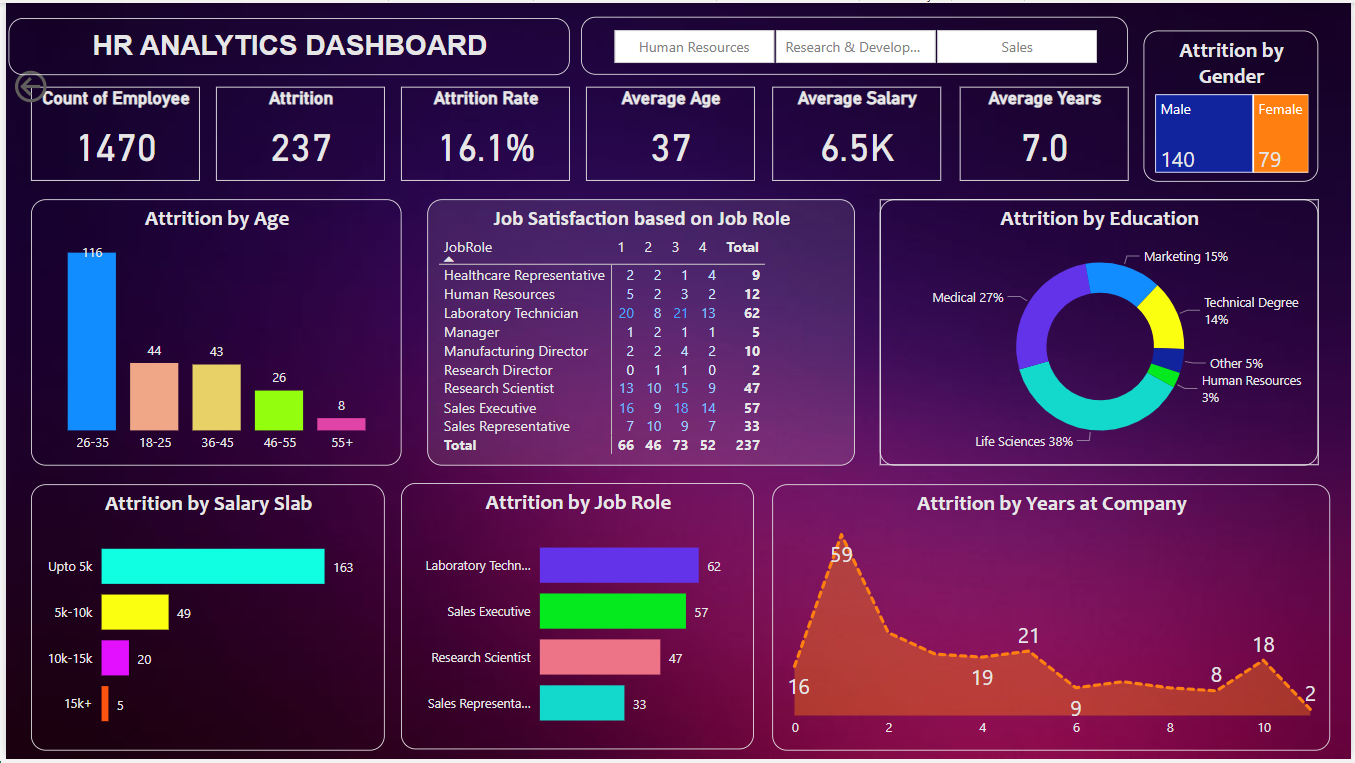

The page's visual inventory and layout, read from the dashboard file:
{"tool":"powerbi","page":{"name":"Page 1","canvas":[1280,720],"ordinal":0},"visuals":[{"type":"card","title":"Count of Employee","fields":{"Values":["CountNonNull(HR_Analytics.EmpID)"]},"box":[23.8,79.6,160.4,89.2],"z":0},{"type":"card","title":"Attrition","fields":{"Values":["Sum(HR_Analytics.Attrition Count)"]},"box":[199.9,79.6,160.4,89.2],"z":1000},{"type":"card","title":"Attrition Rate","fields":{"Values":["HR_Analytics.AttritionRate"]},"box":[376,79.6,160.4,89.2],"z":2000},{"type":"card","title":"Average Age","fields":{"Values":["Avg(HR_Analytics.Age)"]},"box":[552,79.6,160.4,89.2],"z":3000},{"type":"actionButton","box":[3.3,59.1,100,40],"z":4000},{"type":"card","title":"Average Salary","fields":{"Values":["Avg(HR_Analytics.MonthlyIncome)"]},"box":[729.3,79.6,160.4,89.2],"z":5000},{"type":"card","title":"Average Years","fields":{"Values":["Avg(HR_Analytics.YearsAtCompany)"]},"box":[907.8,79.6,160.4,89.2],"z":6000},{"type":"donutChart","title":"Attrition by Education","fields":{"Category":["HR_Analytics.EducationField"],"Y":["Sum(HR_Analytics.Attrition Count)"]},"box":[832.2,186.9,417.3,253.3],"z":7000},{"type":"columnChart","title":"Attrition by Age","fields":{"Category":["HR_Analytics.AgeGroup"],"Y":["Sum(HR_Analytics.Attrition Count)"]},"box":[23.3,186.6,352.7,253.9],"z":8000},{"type":"pivotTable","title":"Job Satisfaction based on Job Role","fields":{"Rows":["HR_Analytics.JobRole"],"Columns":["HR_Analytics.JobSatisfaction"],"Values":["Sum(HR_Analytics.Attrition Count)"]},"box":[400.7,186.6,407.5,253.9],"z":9000},{"type":"barChart","title":"Attrition by Salary Slab","fields":{"Category":["HR_Analytics.SalarySlab"],"Y":["Sum(HR_Analytics.Attrition Count)"]},"box":[23.8,458.5,336.5,253.3],"z":10000},{"type":"barChart","title":"Attrition by Job Role","fields":{"Category":["HR_Analytics.JobRole"],"Y":["Sum(HR_Analytics.Attrition Count)"]},"box":[376.5,457.2,336.2,253.9],"z":11000},{"type":"areaChart","title":"Attrition by Years at Company","fields":{"Category":["HR_Analytics.YearsAtCompany"],"Y":["Sum(HR_Analytics.Attrition Count)"]},"box":[729.2,458.6,531,253.9],"z":12000},{"type":"treemap","title":"Attrition by Gender","fields":{"Group":["HR_Analytics.Gender"],"Values":["Sum(HR_Analytics.Attrition Count)"]},"box":[1083.2,26.3,166,144.1],"z":13000},{"type":"slicer","fields":{"Values":["HR_Analytics.Department"]},"box":[547.5,13.3,521,55.5],"z":14000},{"type":"textbox","box":[2.4,14.3,534.3,54.7],"z":15000}]}

Visuals, with their boxes in screenshot pixels (x1, y1, x2, y2), scaled from the page's 1280x720 canvas onto the 1355x763 screenshot:
"Count of Employee" card: box(25, 84, 195, 179)
"Attrition" card: box(212, 84, 381, 179)
"Attrition Rate" card: box(398, 84, 568, 179)
"Average Age" card: box(584, 84, 754, 179)
actionButton: box(3, 63, 109, 105)
"Average Salary" card: box(772, 84, 942, 179)
"Average Years" card: box(961, 84, 1131, 179)
"Attrition by Education" donutChart: box(881, 198, 1323, 466)
"Attrition by Age" columnChart: box(25, 198, 398, 467)
"Job Satisfaction based on Job Role" pivotTable: box(424, 198, 856, 467)
"Attrition by Salary Slab" barChart: box(25, 486, 381, 754)
"Attrition by Job Role" barChart: box(399, 485, 754, 754)
"Attrition by Years at Company" areaChart: box(772, 486, 1334, 755)
"Attrition by Gender" treemap: box(1147, 28, 1322, 181)
slicer - HR_Analytics.Department: box(580, 14, 1131, 73)
textbox: box(3, 15, 568, 73)
